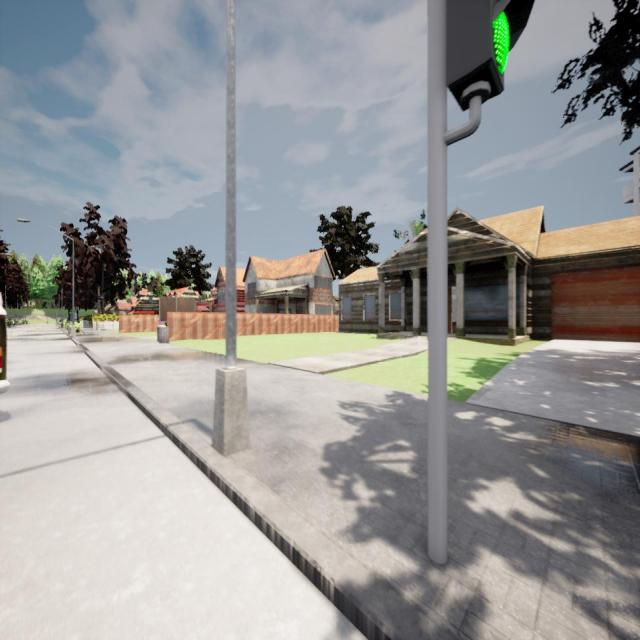Vehicle: (0, 292, 11, 393)
traffic_light: (446, 0, 534, 113)
